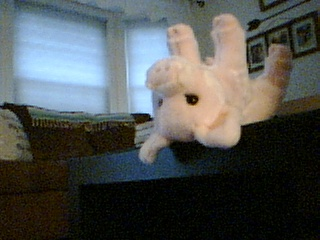piggy: (136, 11, 295, 167)
